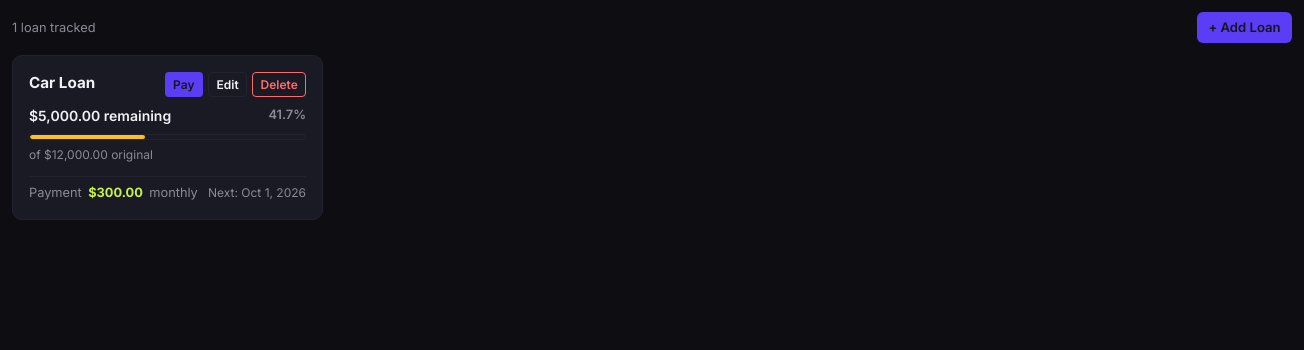
Test case: Loans — RS-13 inline payment › confirm button is disabled when amount is 0
Click the button "Pay": (184, 85) 165,72 -> 203,97
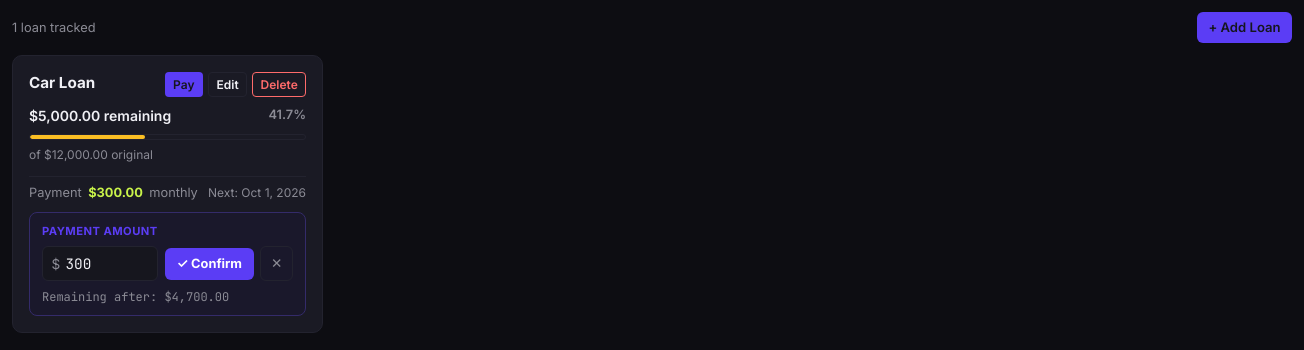
Replace the text in the number field with class "loan-inline-pay__input" with "0": (100, 264) 42,246 -> 158,281
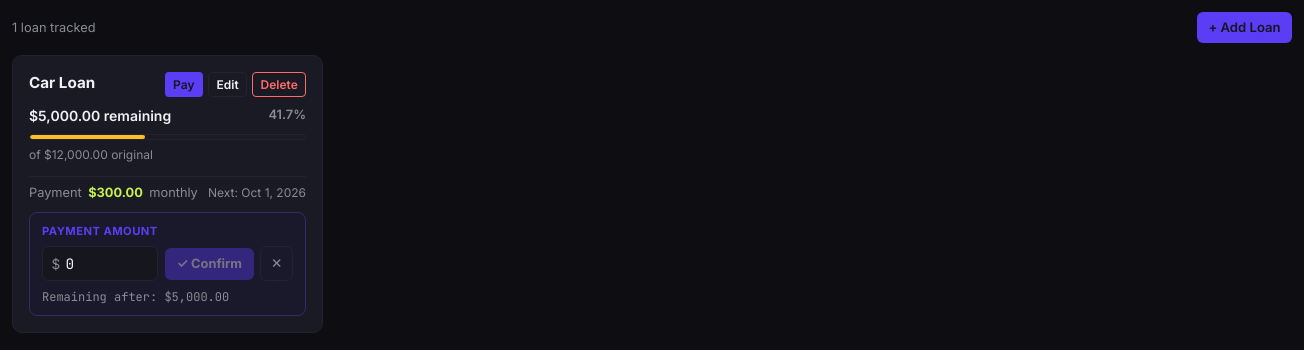
Check: the button with class "loan-inline-pay__confirm" is disabled, box 165,248 -> 254,280
